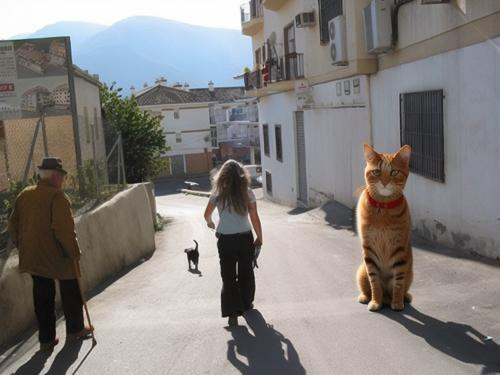cat: (351, 141, 412, 315)
dog: (183, 239, 204, 275)
person: (7, 156, 99, 353), (204, 160, 264, 329)
person/foot: (65, 326, 94, 342), (40, 337, 60, 351), (245, 302, 252, 309), (230, 322, 238, 327)
person/hand: (255, 237, 262, 245), (207, 224, 216, 229)
person/head: (219, 160, 248, 190), (39, 158, 64, 188)
